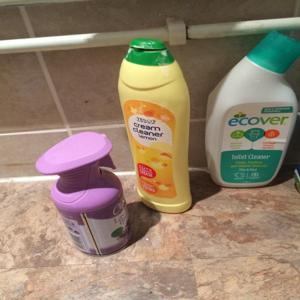plastic bottle: (206, 22, 300, 191), (119, 33, 199, 230), (34, 128, 139, 257)
